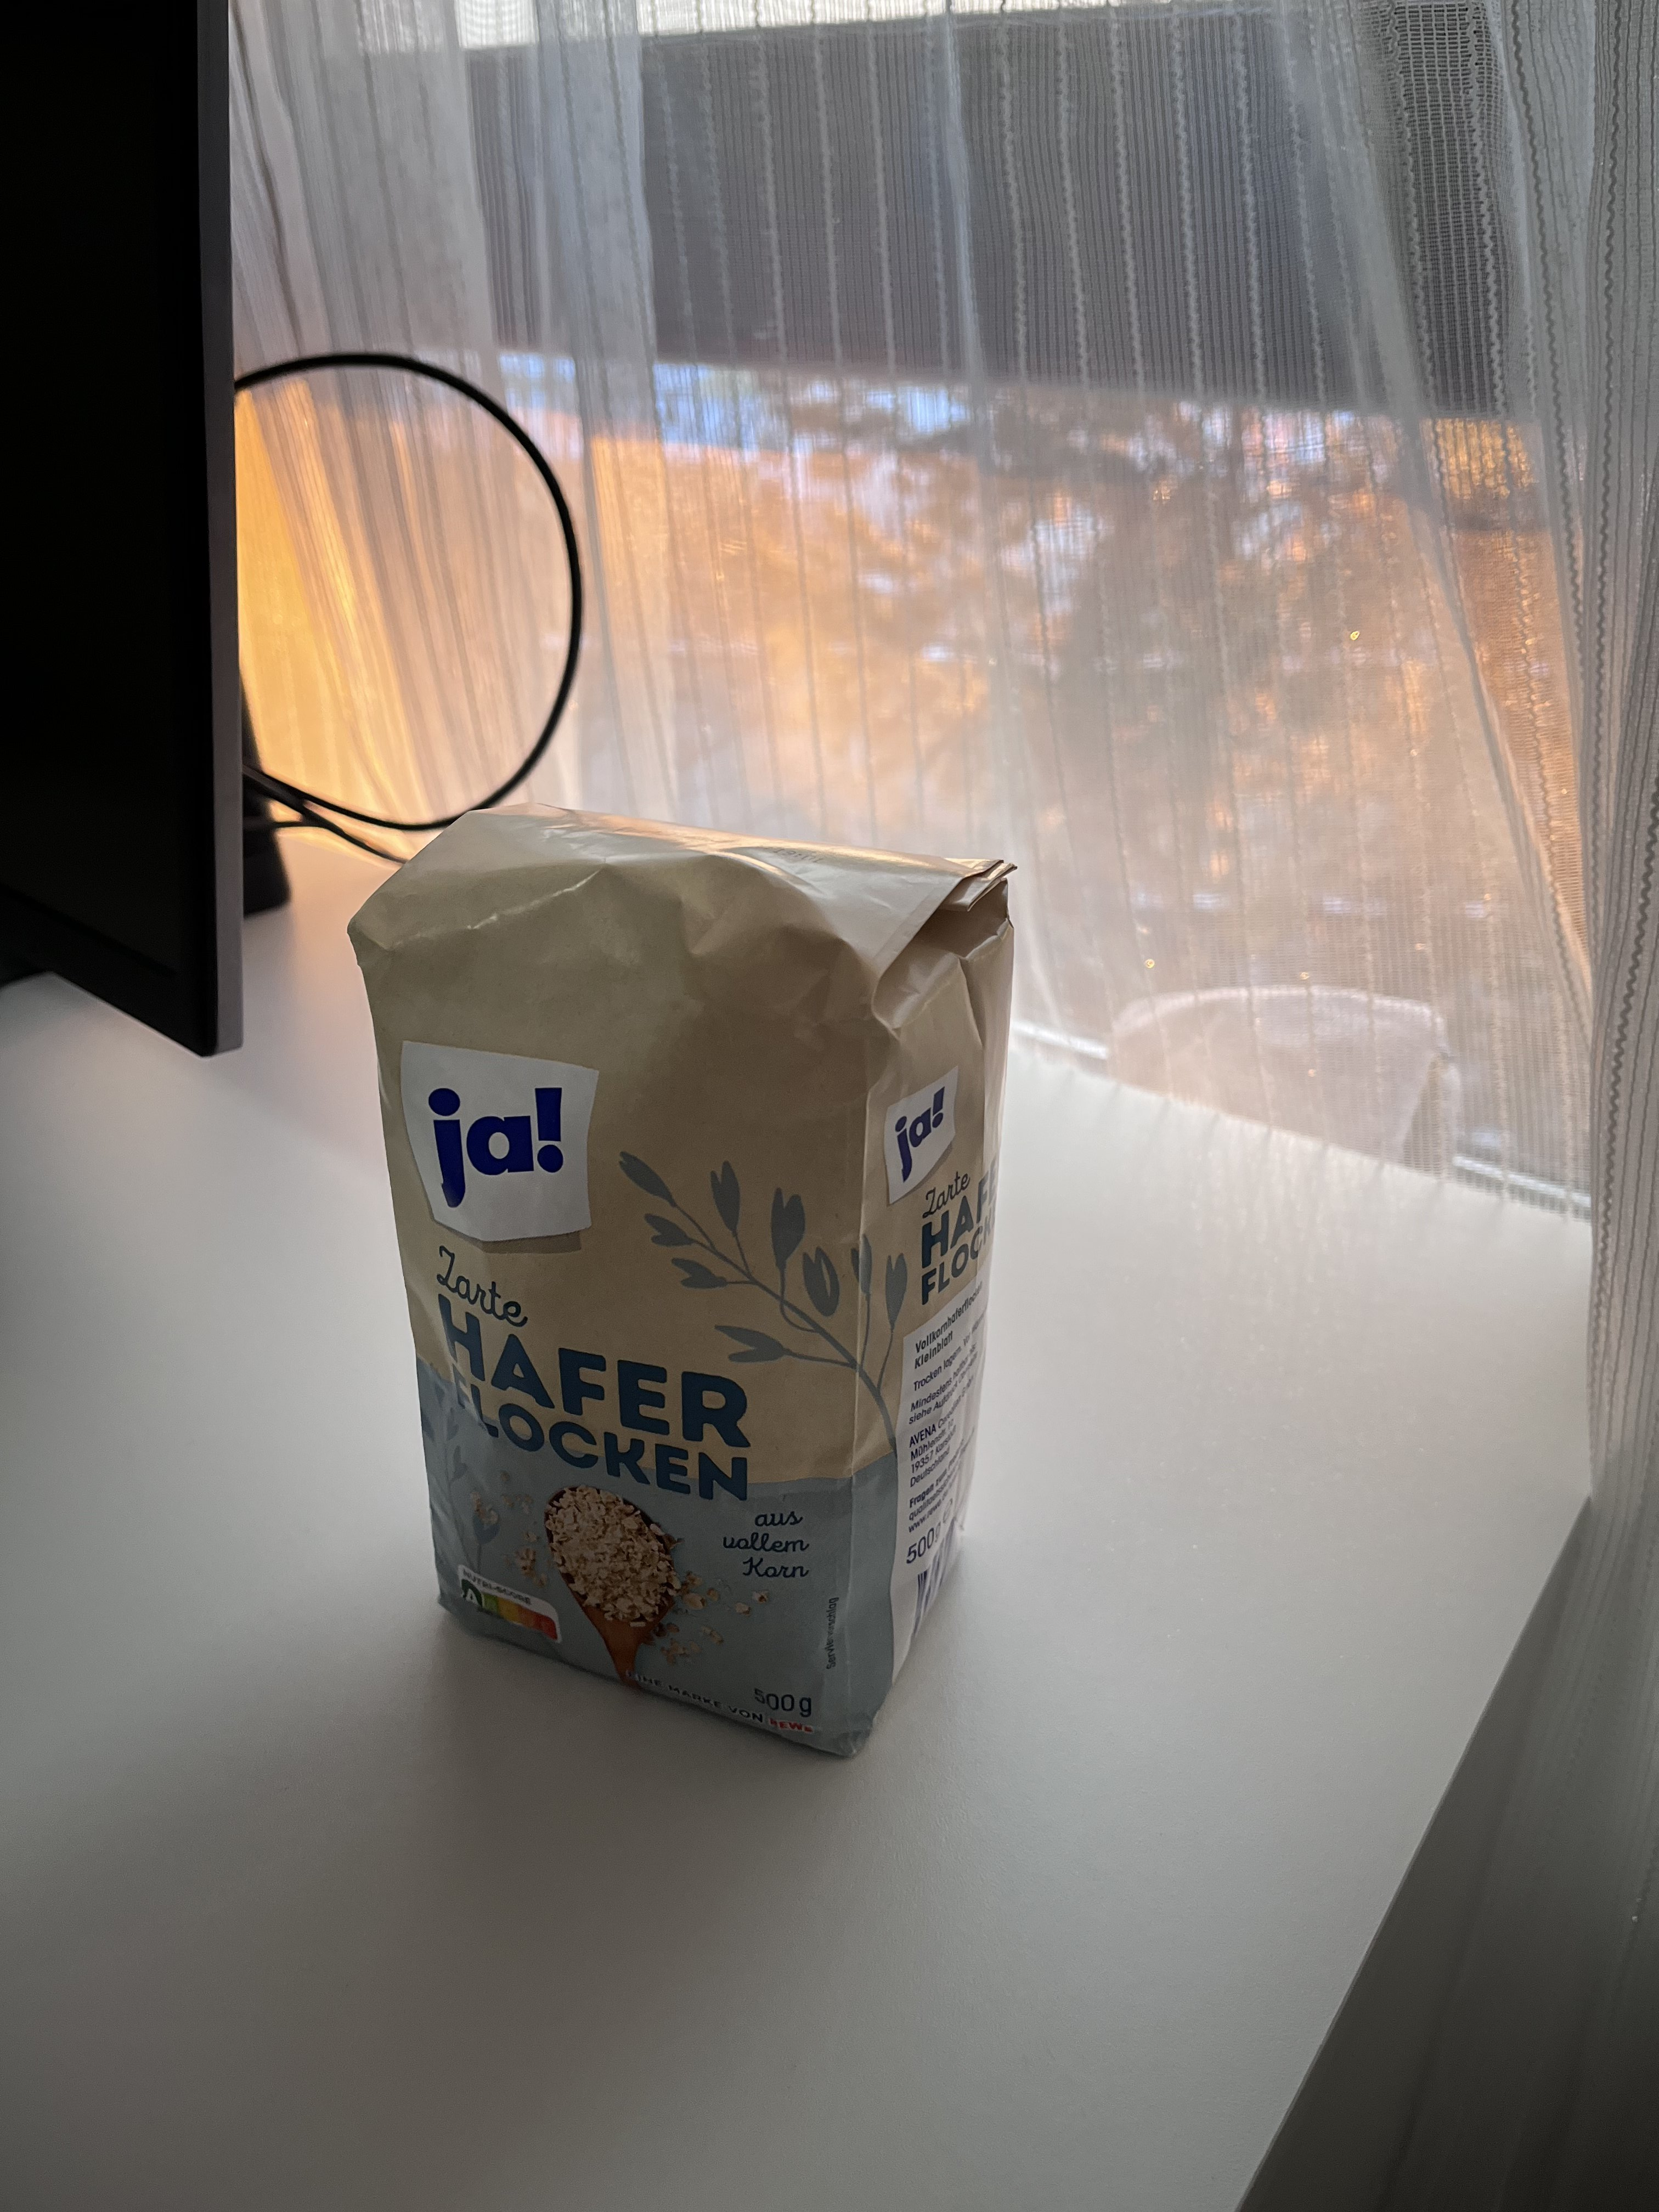haferflocken_ja: (350, 805, 1021, 1759)
